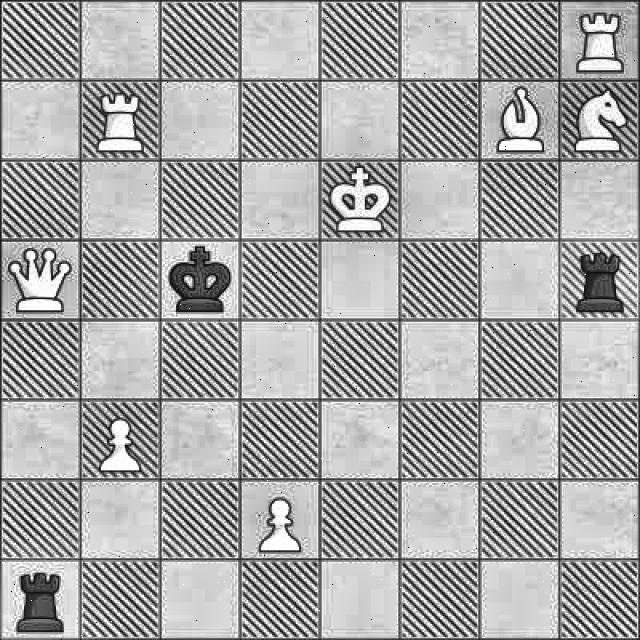black king: (164, 240, 238, 321)
black rook: (0, 561, 80, 640), (567, 250, 631, 318)
white bishop: (492, 82, 550, 166)
white king: (330, 158, 388, 234)
white pawn: (248, 486, 314, 558), (90, 411, 152, 477)
white queen: (0, 243, 82, 319)
white rook: (88, 86, 155, 158), (566, 4, 626, 78)
whiteknight: (566, 83, 630, 155)
